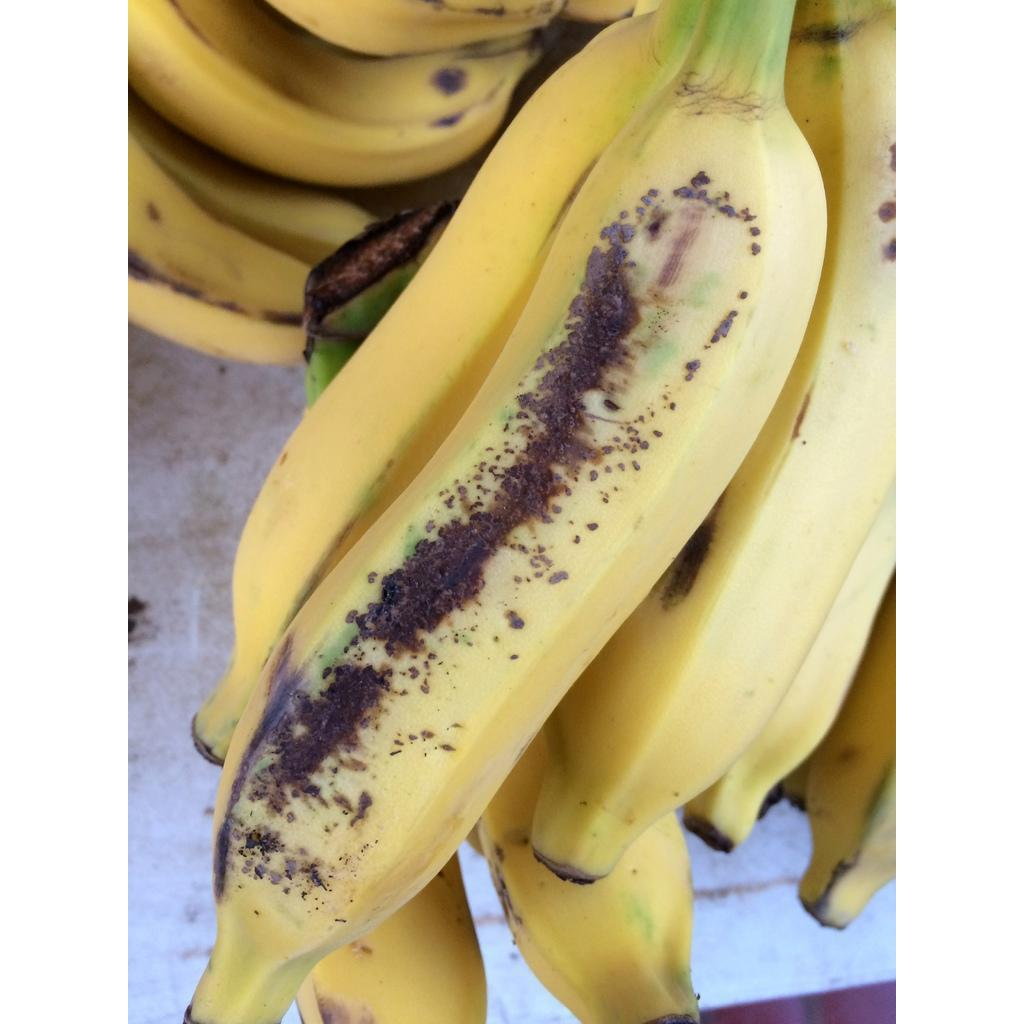banana: (189, 0, 839, 1024), (189, 14, 659, 783), (527, 0, 896, 879)
